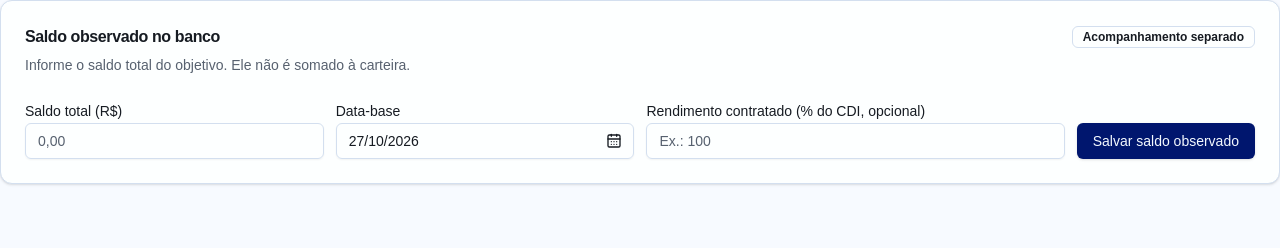
Test: PortfolioObjectiveBalanceTracking › keeps invalid amount, future date, and CDI fields beside their controls
Type "100000000000001" into the field named "Saldo observado de Viagem". click: (174, 141)
box: x1=25 y1=123 x2=324 y2=159
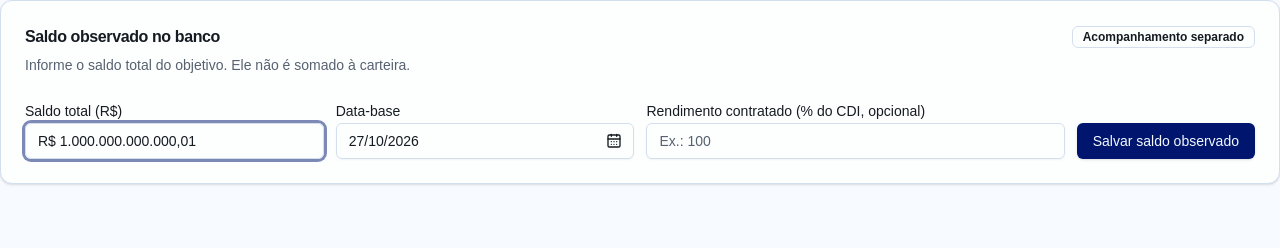
Replace the text in the field labelled "Data-base" with "31/12/2099". click: (485, 141)
box: x1=336 y1=123 x2=634 y2=159
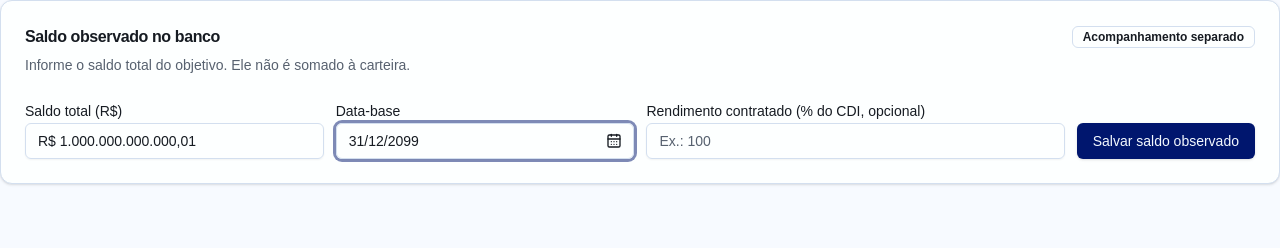
Type "1001" into the field labelled "Rendimento contratado (% do CDI, opcional)". click: (856, 141)
box: x1=646 y1=123 x2=1065 y2=159
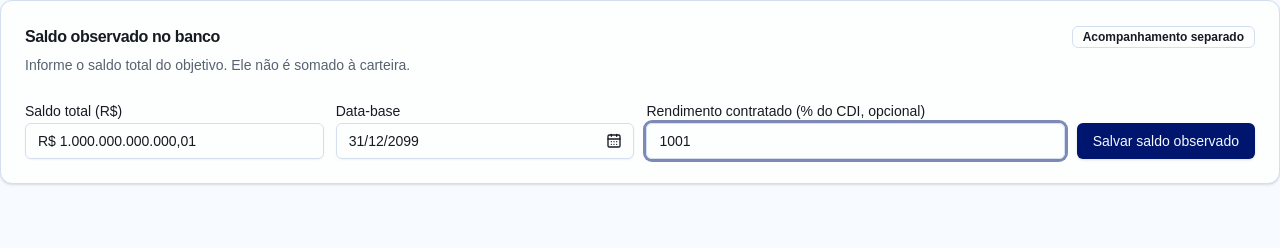
Click the button "Salvar saldo observado". click: (1166, 141)
box: x1=1077 y1=123 x2=1255 y2=159
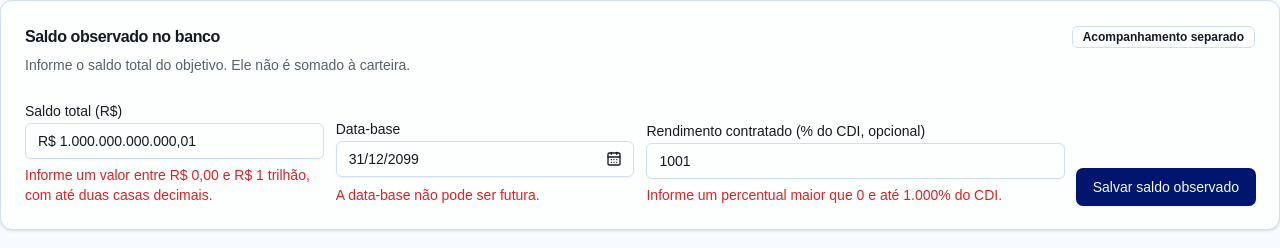
Now the text "Informe um valor entre R$ 0,00 e R$ 1 trilhão, com até duas casas decimais." is shown, box x1=25 y1=165 x2=324 y2=205
Now the text "A data-base não pode ser futura." is shown, box x1=336 y1=187 x2=540 y2=203
Now the text "Informe um percentual maior que 0 e até 1.000% do CDI." is shown, box x1=646 y1=185 x2=1065 y2=205
